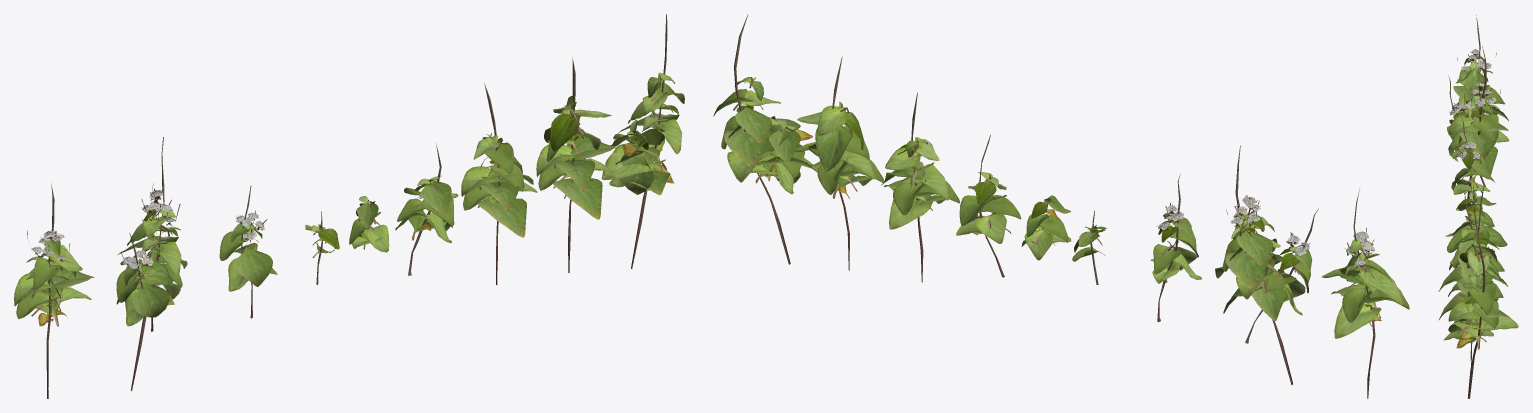
The model's file is shrub.glb.
The picture shows the model from 3 angles, left to right: view 1: azimuth 30°, elevation 25°; view 2: azimuth 150°, elevation 25°; view 3: azimuth 270°, elevation 25°; orthographic projection. The views are drawn at different scales.
Visible parts, largest first — view 1: shrub_01_a; view 2: shrub_01_a; view 3: shrub_01_a.
Part boxes in pixels (x1,y1,x2,y2): shrub_01_a: (14, 14, 684, 398); shrub_01_a: (713, 14, 1409, 398); shrub_01_a: (1438, 15, 1518, 398).
Bounding box in the file's own units: 1.65 × 0.5641 × 0.2213.
1 material, 1 textured.
